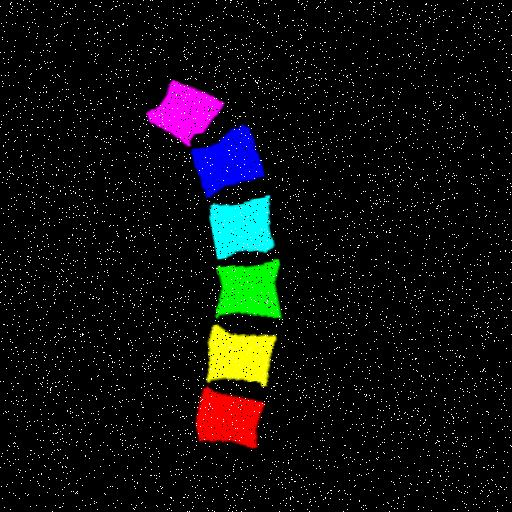L1: (191, 387, 259, 447)
L2: (201, 324, 272, 386)
L3: (211, 258, 275, 317)
L4: (208, 196, 268, 258)
L5: (189, 126, 261, 197)
S1: (145, 80, 221, 145)
